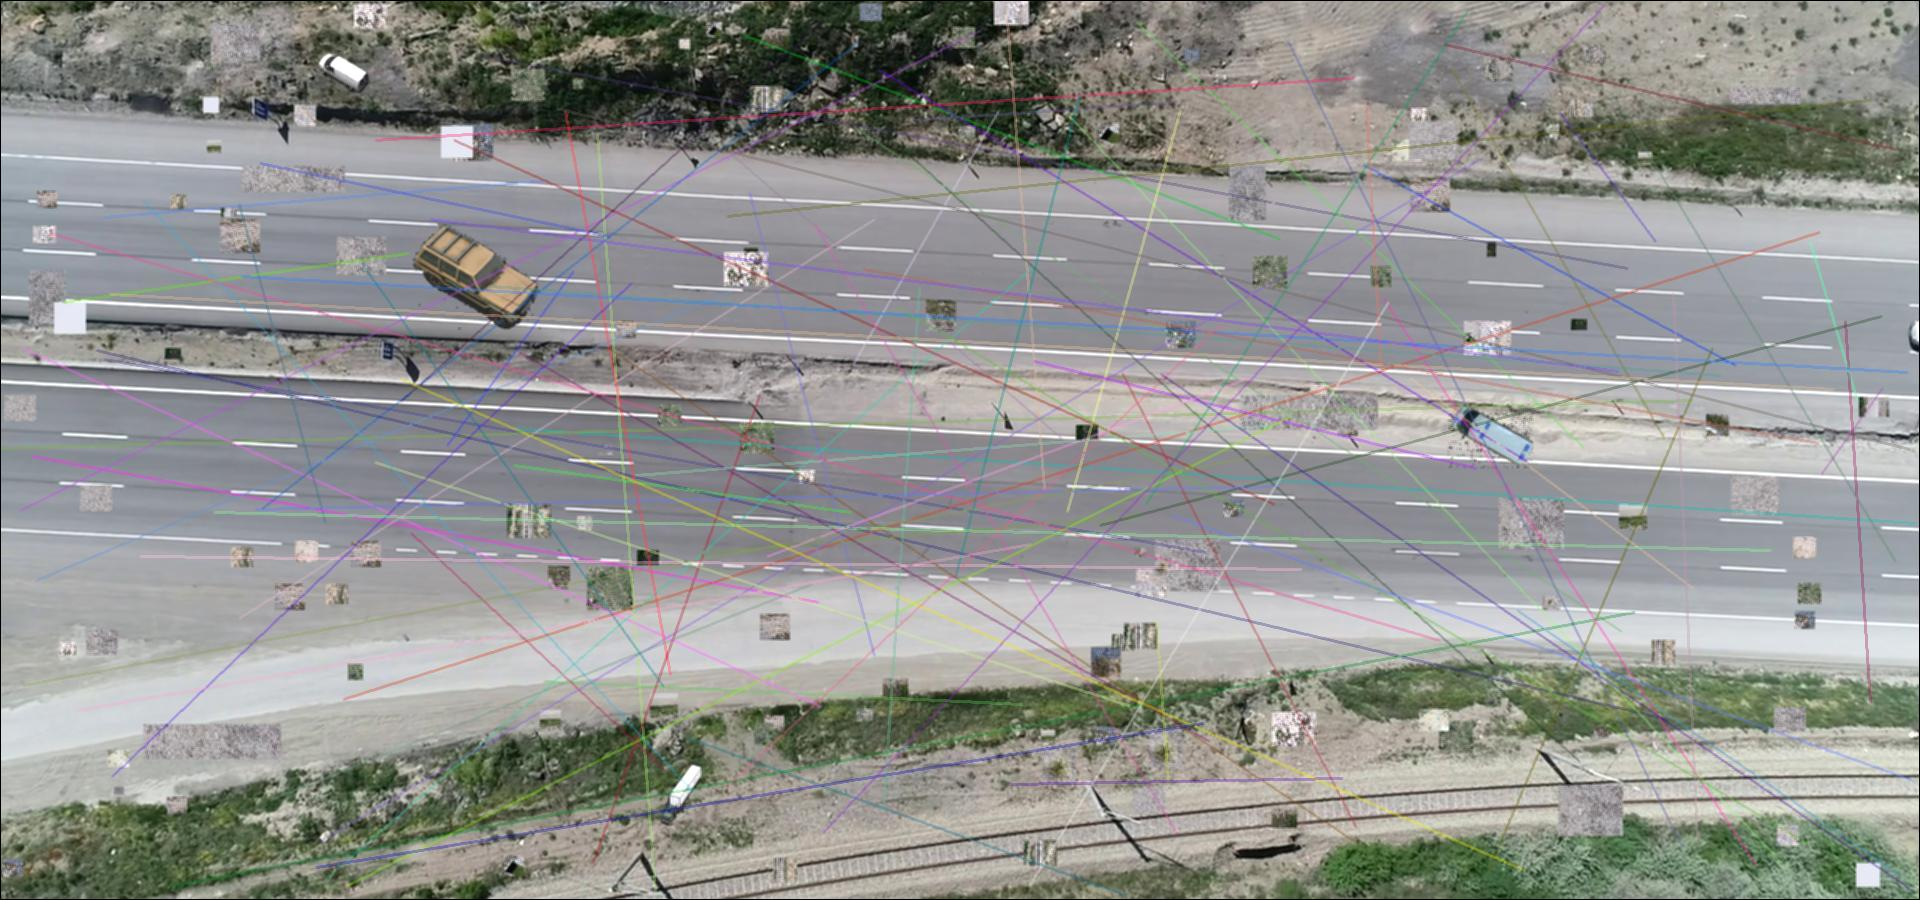arac: (413, 220, 542, 331), (1449, 404, 1533, 468), (658, 764, 702, 827), (318, 51, 370, 93)
